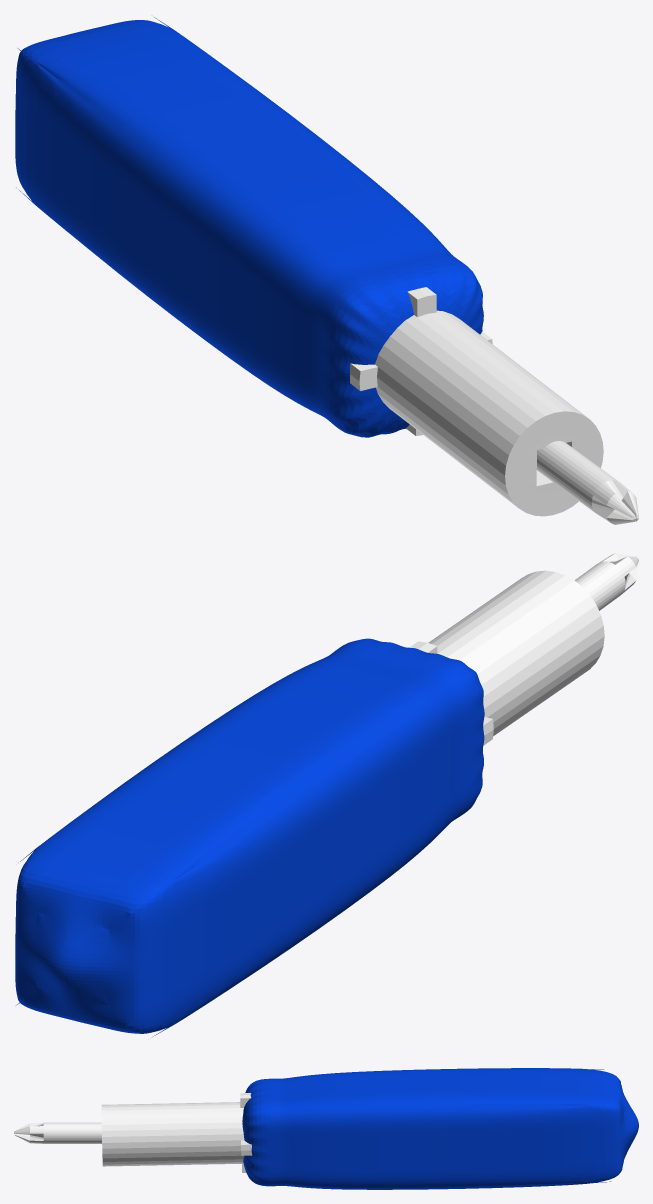
Rendered from Screwdriver.fbx.
3 renders of one model, top to bottom at view 1: azimuth 30°, elevation 25°; view 2: azimuth 150°, elevation 25°; view 3: azimuth 270°, elevation 25°, orthographic. The views are drawn at different scales.
Parts seen in each view (by area): view 1: Hendle, Tip holder, Cross slot; view 2: Hendle, Tip holder, Cross slot; view 3: Hendle, Tip holder, Cross slot.
Boxes of the visible parts, x1,y1,x2,y2 form: Hendle: (15,17,483,437); Tip holder: (350,287,603,516); Cross slot: (536,441,638,524); Hendle: (15,638,484,1036); Tip holder: (409,570,604,745); Cross slot: (575,553,638,610); Hendle: (242,1068,638,1189); Tip holder: (101,1093,252,1172); Cross slot: (14,1122,101,1143).
Bounding box in the file's own units: 102 × 104 × 629.
